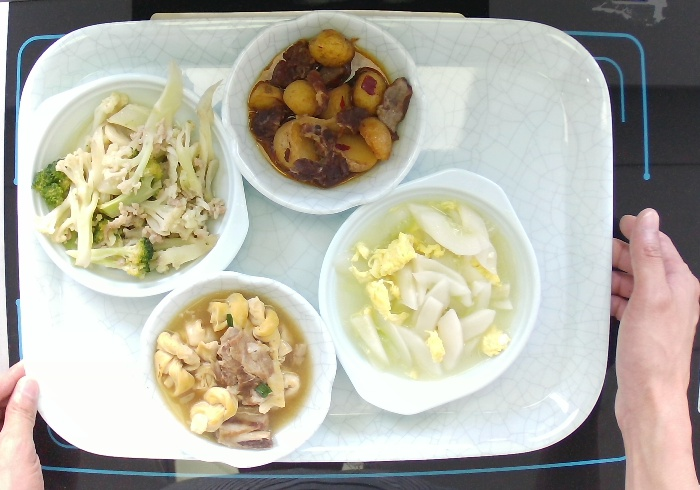JYsf-Ao_Yuan_Wan: (218, 7, 431, 218), (131, 267, 341, 470)
JYsf-Shuang_Er_Pan: (312, 163, 546, 418), (17, 68, 254, 300)
